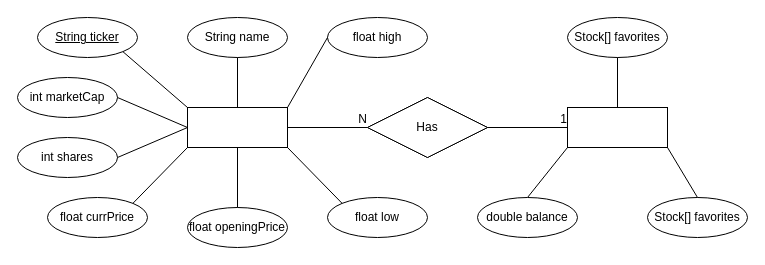
Some shapes in this 765 by 265 pixel diagram are drawn without their labels. The centre of each missing label's shape, as x and y in pixels:
Account: point (617, 127)
Stock: point (237, 127)
